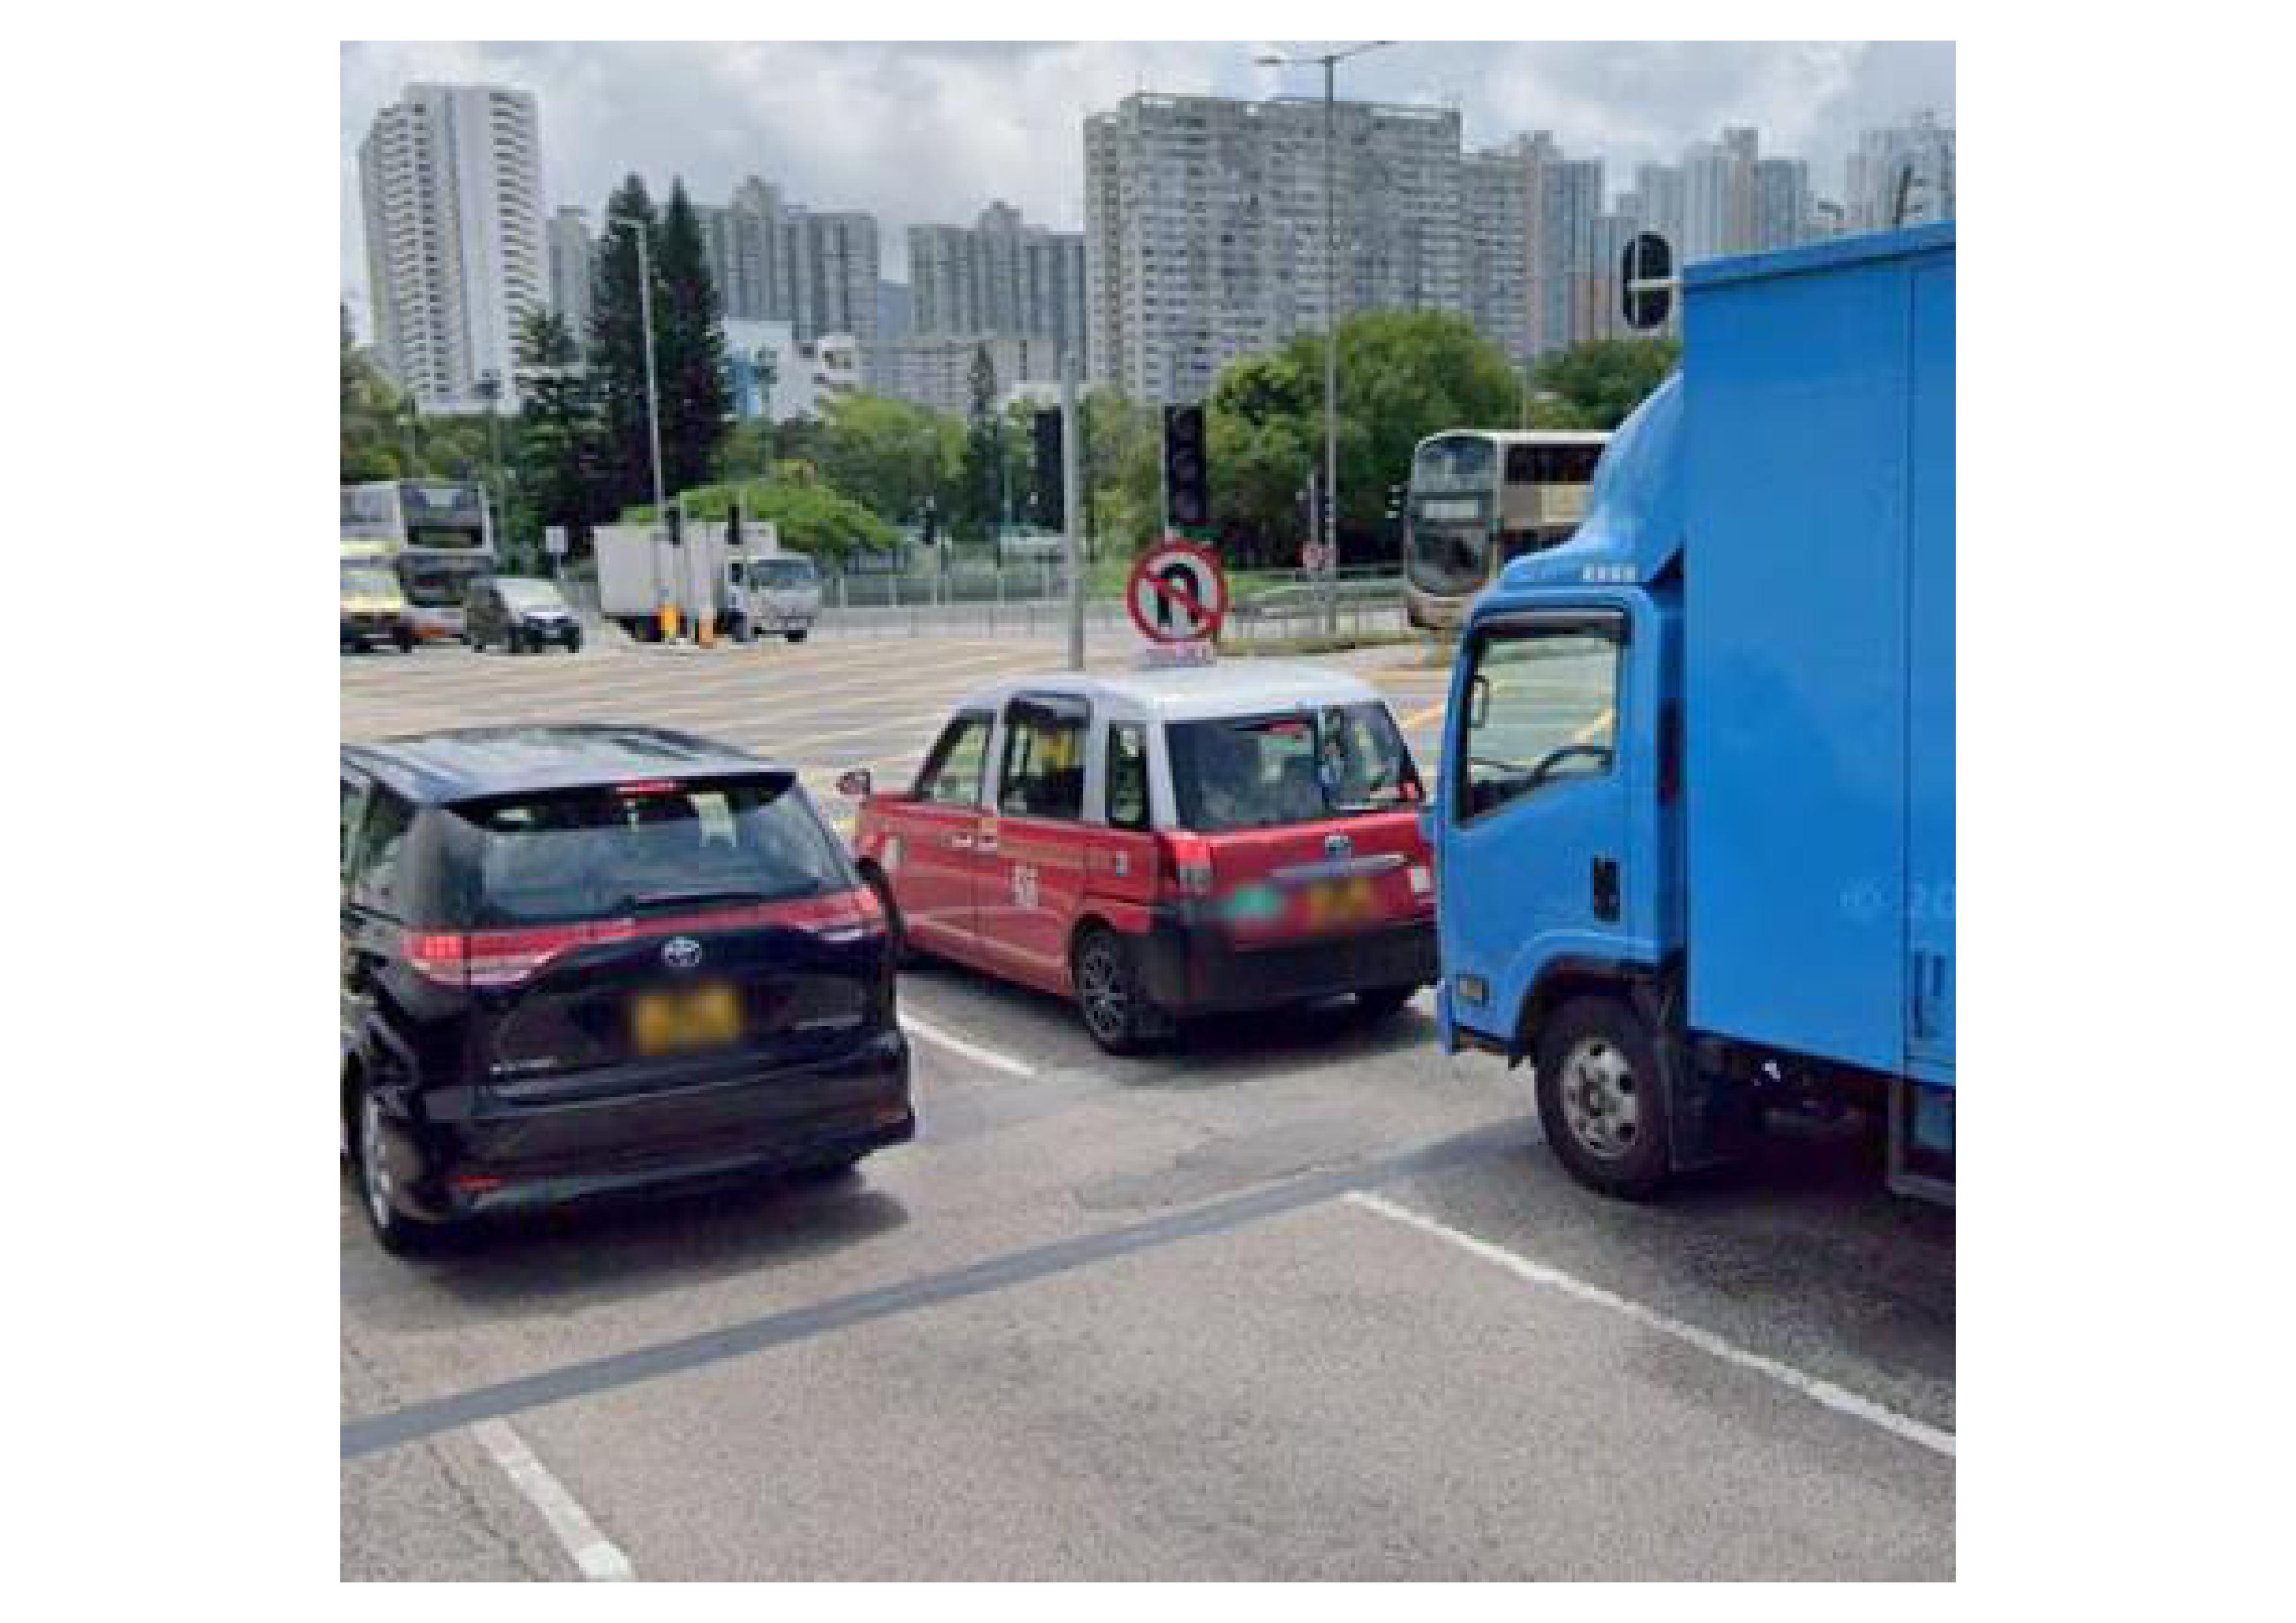No Uturn: (1123, 537, 1238, 645)
